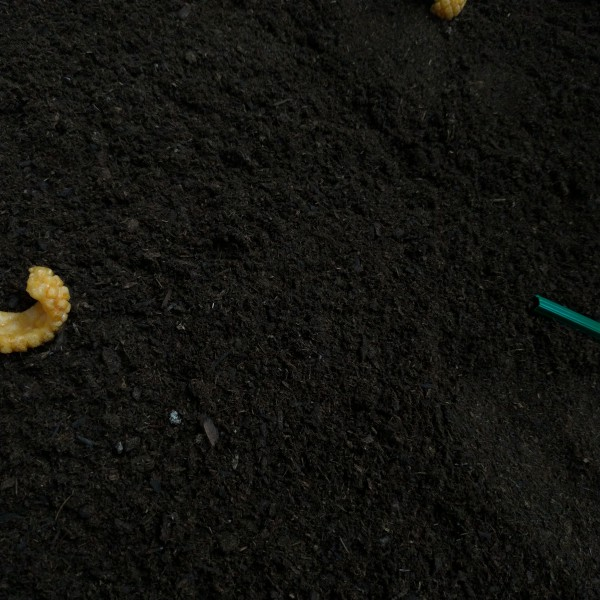eggs: (1, 257, 69, 354), (435, 1, 462, 20)
